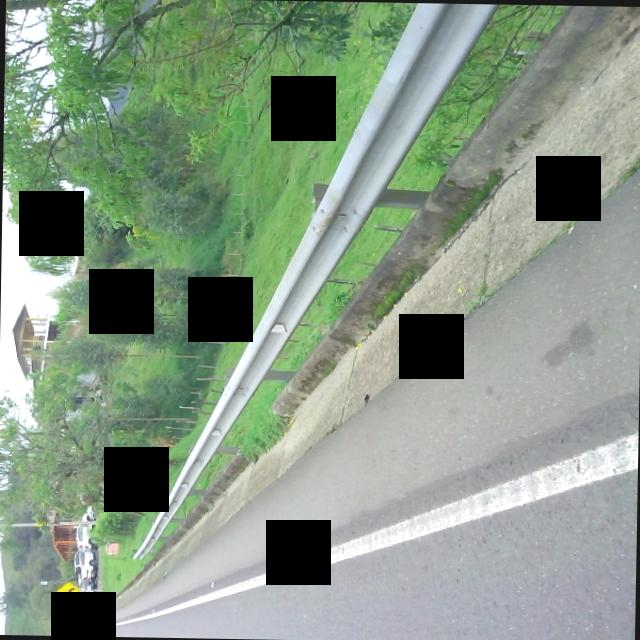DITCH: (100, 0, 640, 621)
